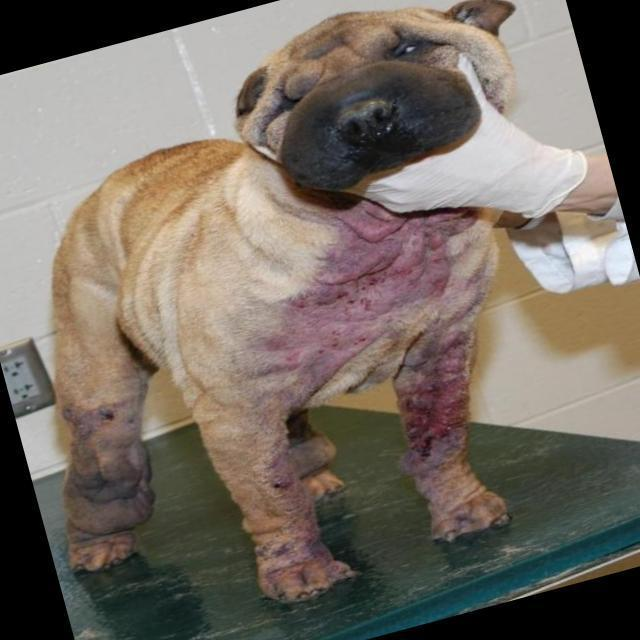mange: (255, 197, 479, 533)
